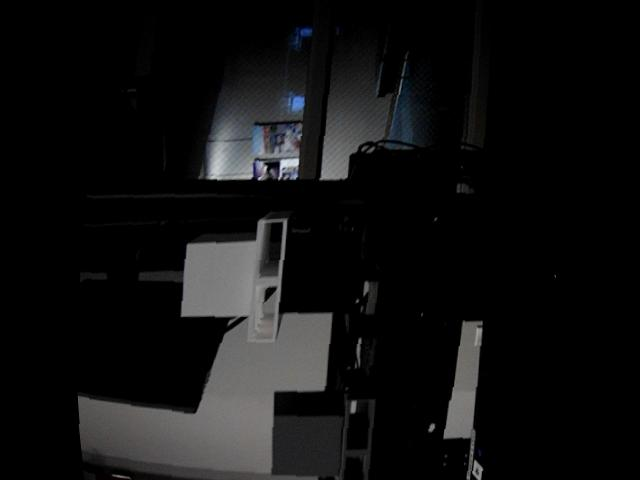black pallet: (280, 220, 375, 328)
grey pallet: (269, 379, 383, 480)
white pallet: (177, 210, 291, 348)
